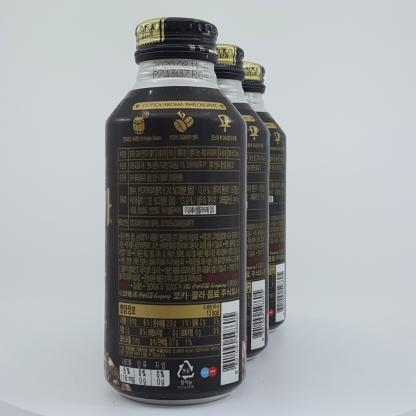-----------390ML: (104, 17, 247, 405)
